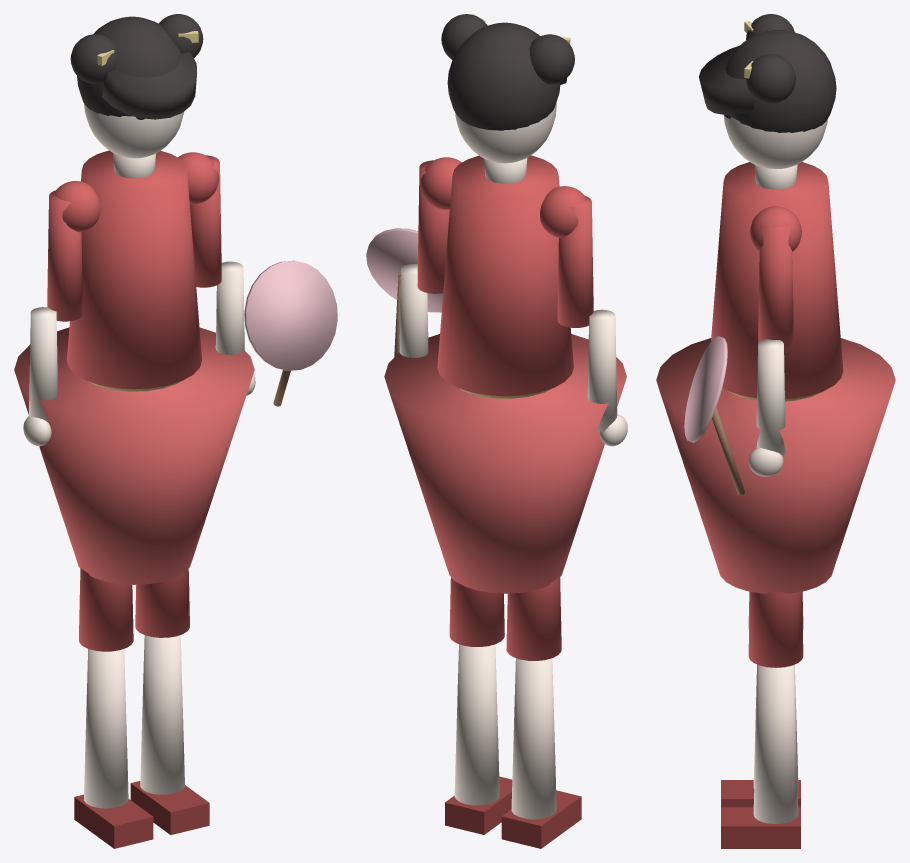
File: a_luo.glb
3 views of the same model, side by side, from view 1: azimuth 30°, elevation 25°; view 2: azimuth 150°, elevation 25°; view 3: azimuth 270°, elevation 25° (orthographic).
Parts seen in each view (by area): view 1: Skirt, Torso, FanFace, ShinL, ShinR, HairCap, FringeC, ThighL, UpperArmL, Head, ThighR, ForeArmL (+10 smaller); view 2: Skirt, Torso, HairCap, ShinL, ShinR, ThighL, UpperArmL, ThighR, ForeArmL, Head, UpperArmR, FanFace (+9 smaller); view 3: Skirt, Torso, HairCap, ShinR, ThighR, UpperArmR, Head, ForeArmR, FanFace, FootR, FringeC, BunR (+6 smaller).
Boxes of the visible parts, x1=… form: Skirt: x1=14, y1=327, x2=254, y2=584; Torso: x1=67, y1=150, x2=201, y2=389; FanFace: x1=244, y1=260, x2=337, y2=370; ShinL: x1=84, y1=649, x2=128, y2=808; ShinR: x1=140, y1=635, x2=184, y2=794; HairCap: x1=77, y1=16, x2=181, y2=116; FringeC: x1=102, y1=52, x2=197, y2=119; ThighL: x1=79, y1=568, x2=133, y2=651; UpperArmL: x1=47, y1=190, x2=82, y2=321; Head: x1=84, y1=103, x2=184, y2=158; ThighR: x1=135, y1=569, x2=189, y2=637; ForeArmL: x1=29, y1=307, x2=57, y2=422; Skirt: x1=384, y1=334, x2=626, y2=593; Torso: x1=437, y1=155, x2=573, y2=396; HairCap: x1=447, y1=22, x2=560, y2=130; ShinL: x1=511, y1=658, x2=556, y2=819; ShinR: x1=454, y1=644, x2=499, y2=805; ThighL: x1=506, y1=577, x2=561, y2=660; UpperArmL: x1=557, y1=196, x2=593, y2=327; ThighR: x1=449, y1=577, x2=504, y2=646; ForeArmL: x1=587, y1=309, x2=617, y2=431; Head: x1=455, y1=103, x2=556, y2=163; UpperArmR: x1=417, y1=160, x2=449, y2=293; FanFace: x1=366, y1=228, x2=443, y2=312; Skirt: x1=656, y1=338, x2=895, y2=593; Torso: x1=711, y1=162, x2=843, y2=398; HairCap: x1=725, y1=30, x2=836, y2=132; ShinR: x1=753, y1=665, x2=798, y2=823; ThighR: x1=748, y1=591, x2=803, y2=667; UpperArmR: x1=758, y1=224, x2=793, y2=348; Head: x1=723, y1=115, x2=827, y2=168; ForeArmR: x1=756, y1=339, x2=785, y2=456; FanFace: x1=684, y1=336, x2=727, y2=442; FootR: x1=721, y1=807, x2=800, y2=848; FringeC: x1=699, y1=45, x2=754, y2=114; BunR: x1=746, y1=54, x2=795, y2=103.
Bounding box in the file's own units: 0.6504 × 1.75 × 0.48.
